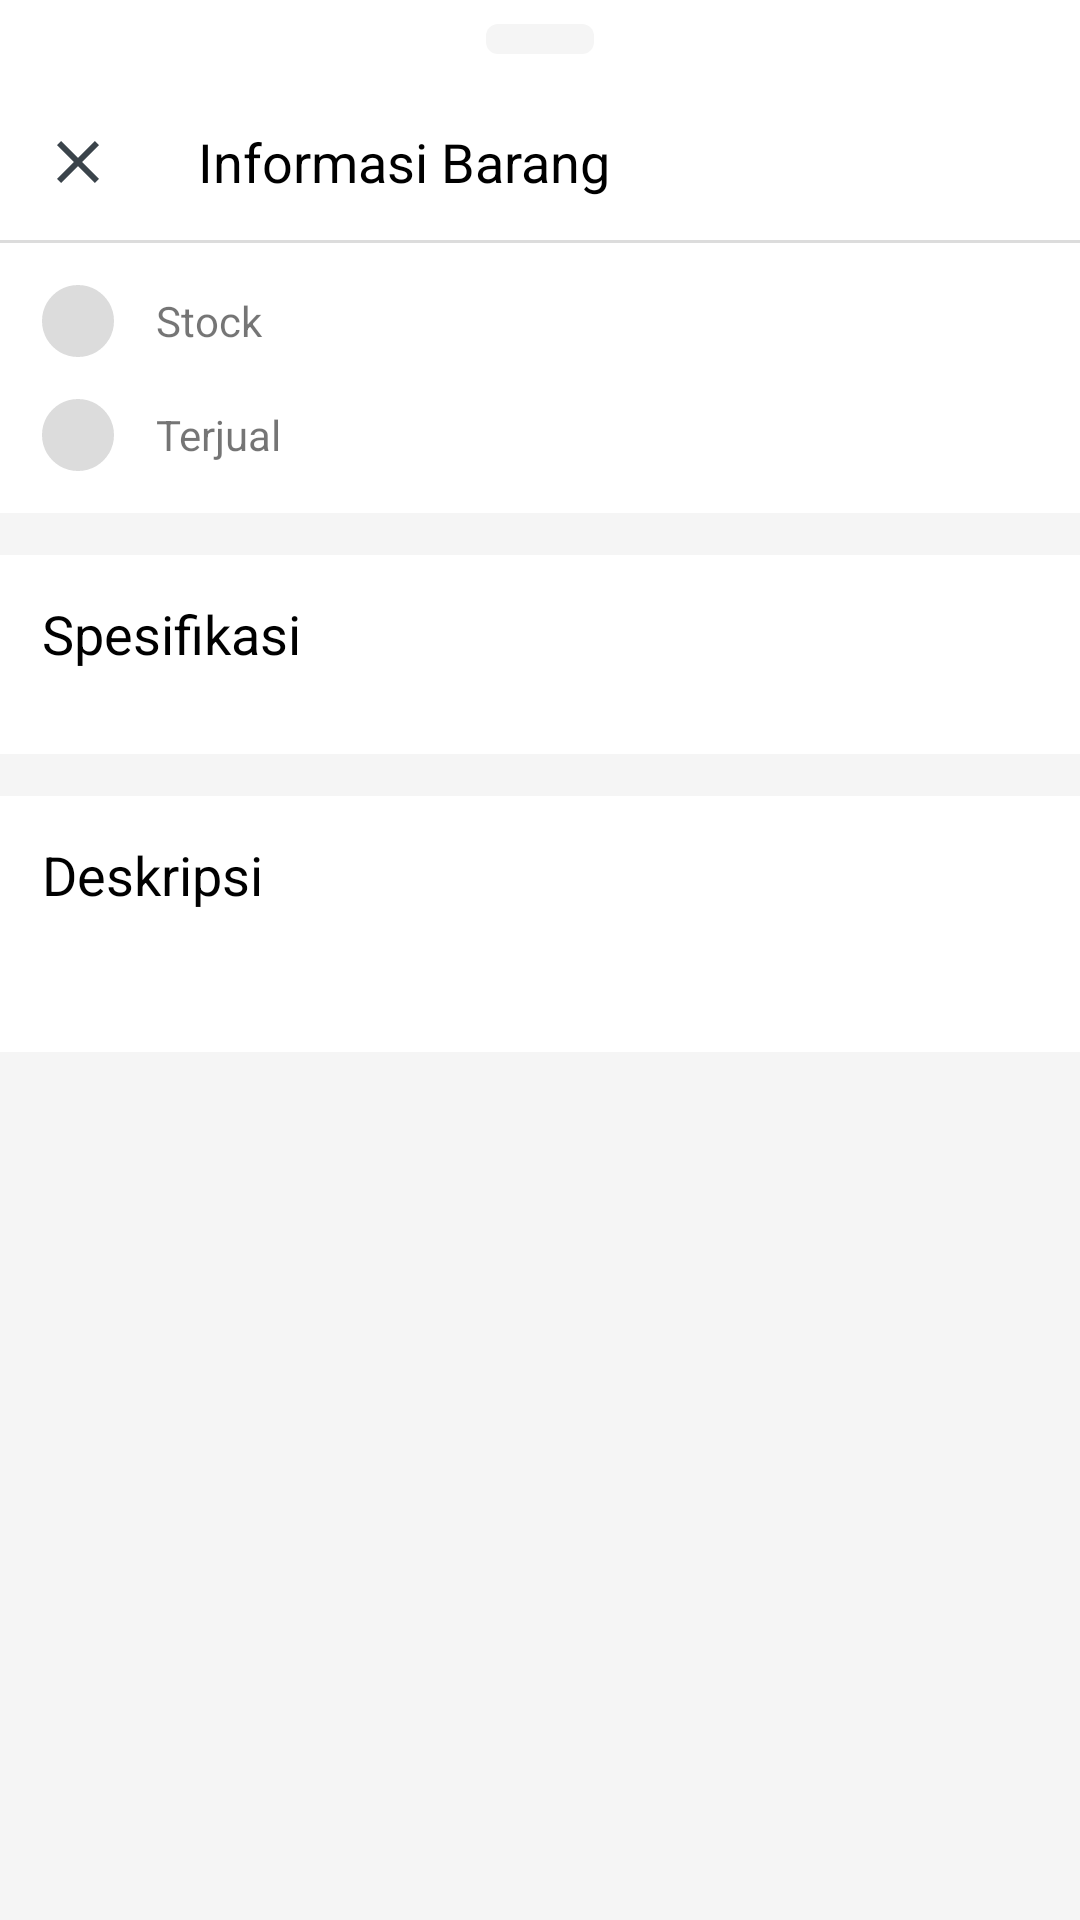

Screen size 1080 × 1920. Icon name, then its box in pixels as (x1, y1, x2, y2):
close: (57, 141, 99, 183)
